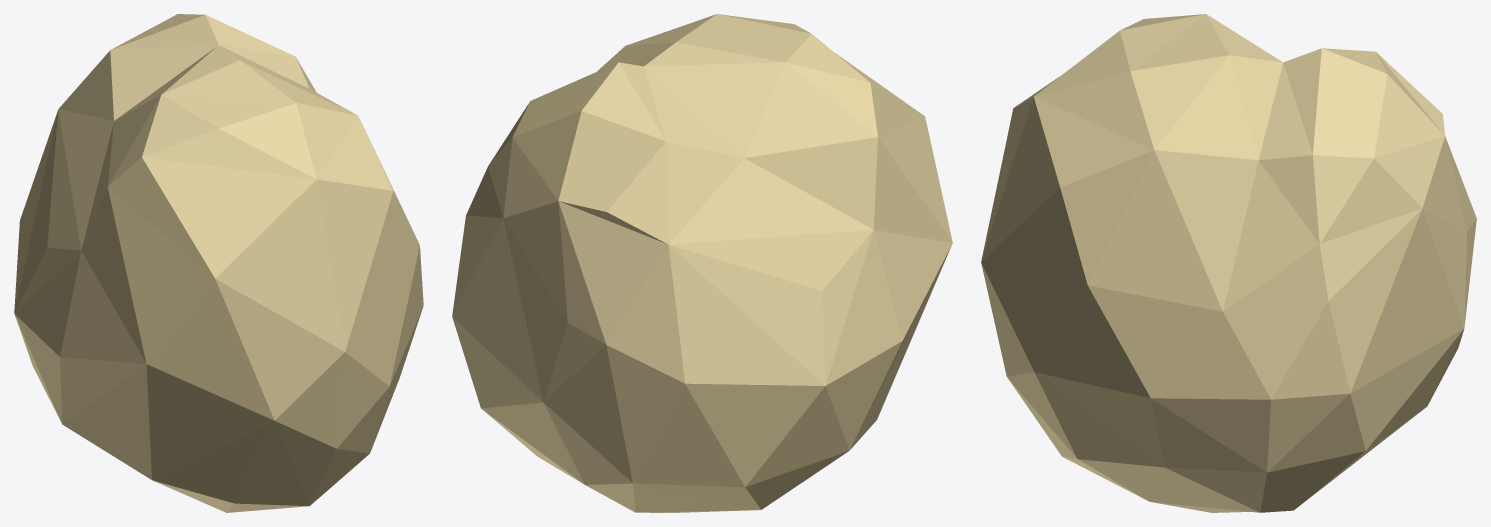
File: Rock (76).fbx
The picture shows the model from 3 angles, left to right: view 1: azimuth 30°, elevation 25°; view 2: azimuth 150°, elevation 25°; view 3: azimuth 270°, elevation 25°; orthographic projection. The views are drawn at different scales.
Visible parts, largest first — view 1: Asteroid75; view 2: Asteroid75; view 3: Asteroid75.
Part boxes in pixels (x1,y1,x2,y2): Asteroid75: [14, 14, 423, 512]; Asteroid75: [452, 14, 952, 512]; Asteroid75: [981, 14, 1476, 512].
Size of the model in its own units: 82 by 94.02 by 91.19.
